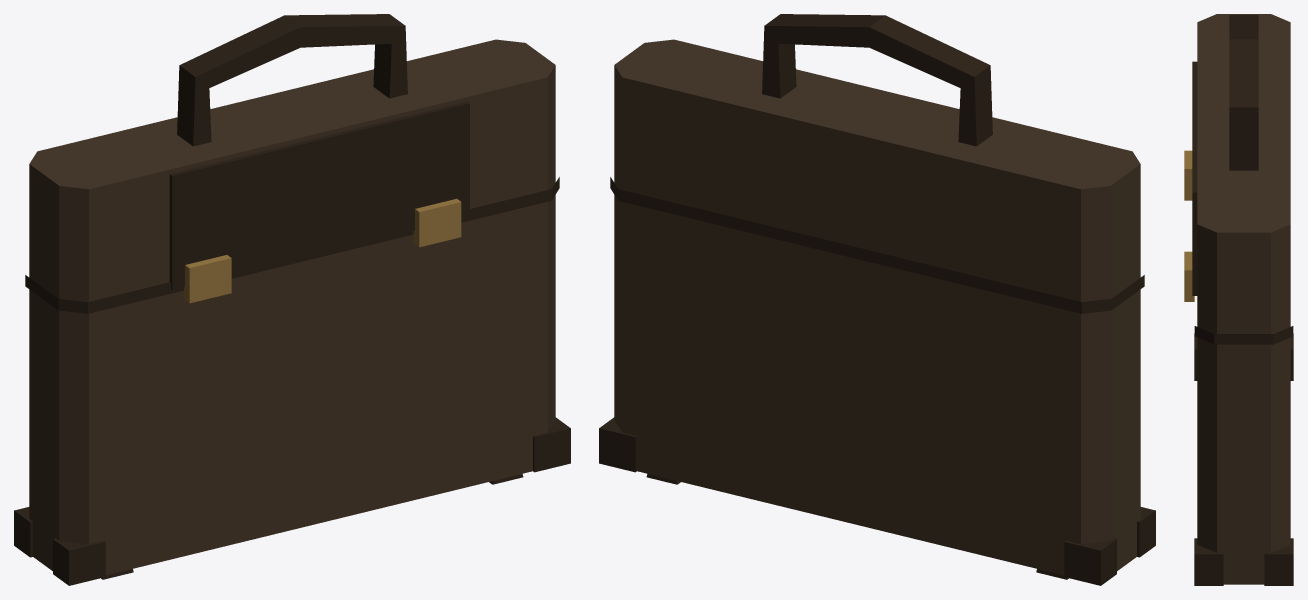
The model's file is righthand-item-410036.glb.
3 renders of one model, left to right at view 1: azimuth 30°, elevation 25°; view 2: azimuth 150°, elevation 25°; view 3: azimuth 270°, elevation 25°, orthographic. The views are drawn at different scales.
Parts seen in each view (by area): view 1: document-case; view 2: document-case; view 3: document-case.
Part boxes in pixels (bbox=[...]): document-case: bbox=[14, 14, 570, 585]; document-case: bbox=[599, 14, 1155, 585]; document-case: bbox=[1184, 14, 1293, 585].
Bounding box in the file's own units: 0.358 × 0.3355 × 0.0748.
